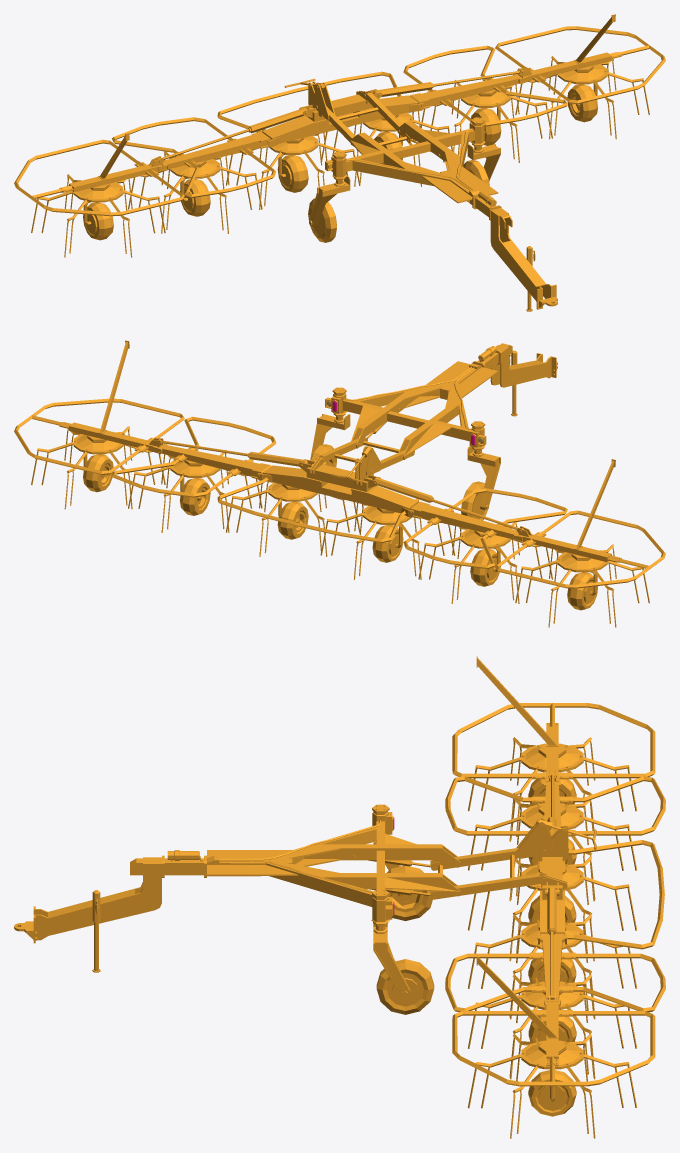
File: SM_Hay_Tedder.fbx
3 views of the same model, one above another, from view 1: azimuth 30°, elevation 25°; view 2: azimuth 150°, elevation 25°; view 3: azimuth 270°, elevation 25° (orthographic). The views are drawn at different scales.
Parts seen in each view (by area): view 1: hay-tedder-base-a, hay-tedder-arm-r, hay-tedder-base-b, hay-tedder-arm-l, hay-tedder-wheel-rba, hay-tedder-spin-r-c, hay-tedder-wheel-lba, hay-tedder-spin-l-c, hay-tedder-spin-r-b, hay-tedder-spin-l-b, hay-tedder-spin-r-a, hay-tedder-spin-l-a (+3 smaller); view 2: hay-tedder-base-a, hay-tedder-base-b, hay-tedder-arm-r, hay-tedder-arm-l, hay-tedder-wheel-lba, hay-tedder-wheel-rba, hay-tedder-spin-r-c, hay-tedder-spin-l-c, hay-tedder-spin-r-b, hay-tedder-spin-l-a, hay-tedder-spin-l-b, hay-tedder-spin-r-a (+3 smaller); view 3: hay-tedder-base-a, hay-tedder-arm-l, hay-tedder-arm-r, hay-tedder-base-b, hay-tedder-spin-l-c, hay-tedder-spin-r-c, hay-tedder-spin-l-b, hay-tedder-wheel-lba, hay-tedder-spin-r-b, hay-tedder-spin-r-a, hay-tedder-spin-l-a, hay-tedder-whee-lfr (+2 smaller).
Part boxes in pixels (bbox=[...]): hay-tedder-base-a: bbox=[309, 117, 557, 309]; hay-tedder-arm-r: bbox=[14, 117, 276, 233]; hay-tedder-base-b: bbox=[217, 71, 424, 186]; hay-tedder-arm-l: bbox=[403, 14, 665, 126]; hay-tedder-wheel-rba: bbox=[83, 155, 308, 240]; hay-tedder-spin-r-c: bbox=[31, 174, 165, 257]; hay-tedder-wheel-lba: bbox=[374, 84, 597, 164]; hay-tedder-spin-l-c: bbox=[515, 56, 649, 139]; hay-tedder-spin-r-b: bbox=[128, 151, 262, 233]; hay-tedder-spin-l-b: bbox=[420, 80, 552, 162]; hay-tedder-spin-r-a: bbox=[226, 129, 360, 209]; hay-tedder-spin-l-a: bbox=[321, 111, 453, 186]; hay-tedder-base-a: bbox=[310, 343, 557, 510]; hay-tedder-base-b: bbox=[217, 437, 418, 556]; hay-tedder-arm-r: bbox=[403, 459, 665, 603]; hay-tedder-arm-l: bbox=[14, 340, 276, 497]; hay-tedder-wheel-lba: bbox=[83, 454, 308, 539]; hay-tedder-wheel-rba: bbox=[372, 525, 597, 610]; hay-tedder-spin-r-c: bbox=[515, 544, 649, 627]; hay-tedder-spin-l-c: bbox=[31, 426, 165, 509]; hay-tedder-spin-r-b: bbox=[418, 522, 552, 603]; hay-tedder-spin-l-a: bbox=[226, 481, 359, 556]; hay-tedder-spin-l-b: bbox=[128, 449, 262, 532]; hay-tedder-spin-r-a: bbox=[320, 498, 455, 579]; hay-tedder-base-a: bbox=[14, 804, 460, 1002]; hay-tedder-arm-l: bbox=[445, 933, 665, 1110]; hay-tedder-arm-r: bbox=[445, 656, 665, 836]; hay-tedder-base-b: bbox=[430, 818, 664, 981]; hay-tedder-spin-l-c: bbox=[467, 1034, 636, 1138]; hay-tedder-spin-r-c: bbox=[468, 737, 636, 841]; hay-tedder-spin-l-b: bbox=[468, 974, 636, 1079]; hay-tedder-wheel-lba: bbox=[528, 952, 576, 1116]; hay-tedder-spin-r-b: bbox=[468, 798, 636, 901]; hay-tedder-spin-r-a: bbox=[468, 856, 636, 961]; hay-tedder-spin-l-a: bbox=[468, 914, 636, 1019]; hay-tedder-whee-lfr: bbox=[376, 959, 434, 1014].
Size of the model in its own units: 9.33 by 1.83 by 6.75.
